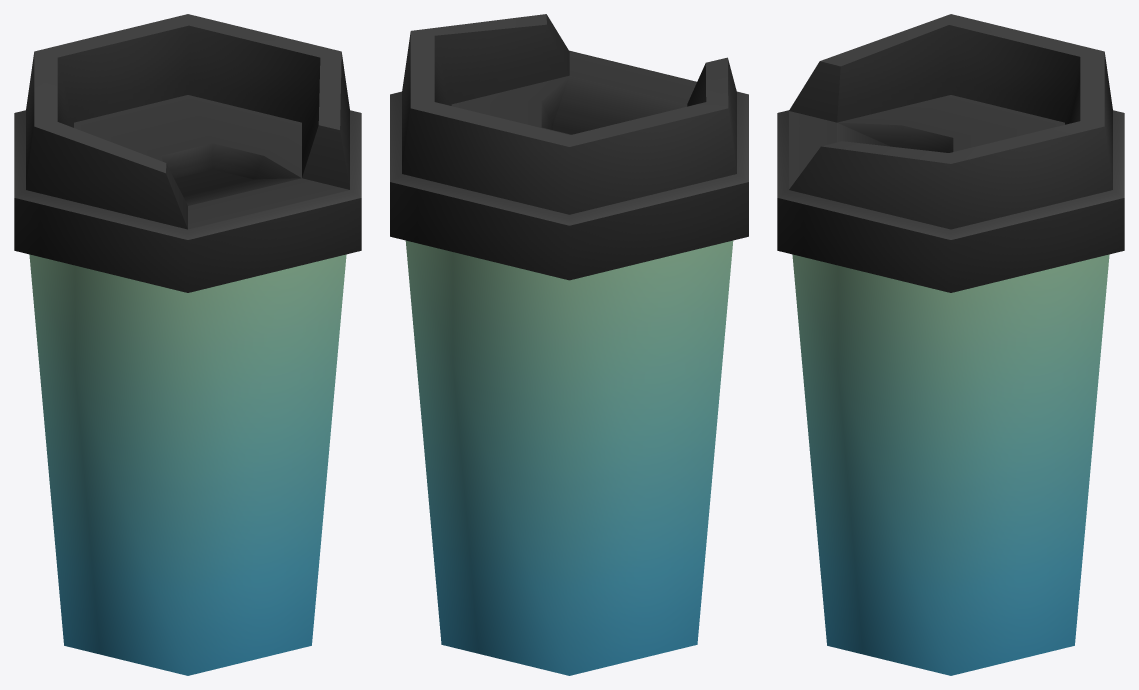
The model's file is CR_Tumbler.FBX.
The picture shows the model from 3 angles, left to right: view 1: azimuth 30°, elevation 25°; view 2: azimuth 150°, elevation 25°; view 3: azimuth 270°, elevation 25°; orthographic projection. The views are drawn at different scales.
Parts seen in each view (by area): view 1: CR_Tumbler; view 2: CR_Tumbler; view 3: CR_Tumbler.
Boxes of the visible parts, box(x1,y1,x2,y2) form: CR_Tumbler: box(14, 14, 361, 675); CR_Tumbler: box(390, 14, 748, 675); CR_Tumbler: box(777, 14, 1124, 675).
Size of the model in its own units: 10.47 by 15.17 by 9.07.
